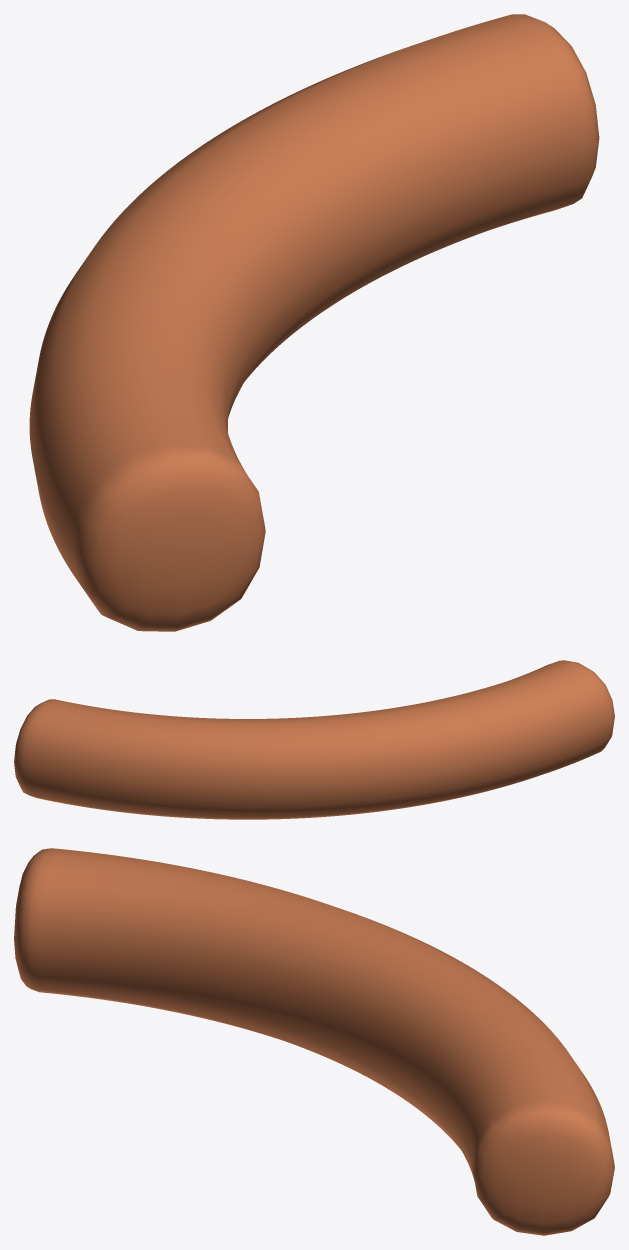
The model's file is Hotcat.fbx.
The picture shows the model from 3 angles, top to bottom: view 1: azimuth 30°, elevation 25°; view 2: azimuth 150°, elevation 25°; view 3: azimuth 270°, elevation 25°; orthographic projection. The views are drawn at different scales.
Visible parts, largest first — view 1: Cube; view 2: Cube; view 3: Cube.
Part boxes in pixels (bbox=[...]): Cube: bbox=[29, 14, 599, 631]; Cube: bbox=[14, 660, 614, 819]; Cube: bbox=[14, 848, 614, 1235].
Size of the model in its own units: 904 by 188 by 791.
